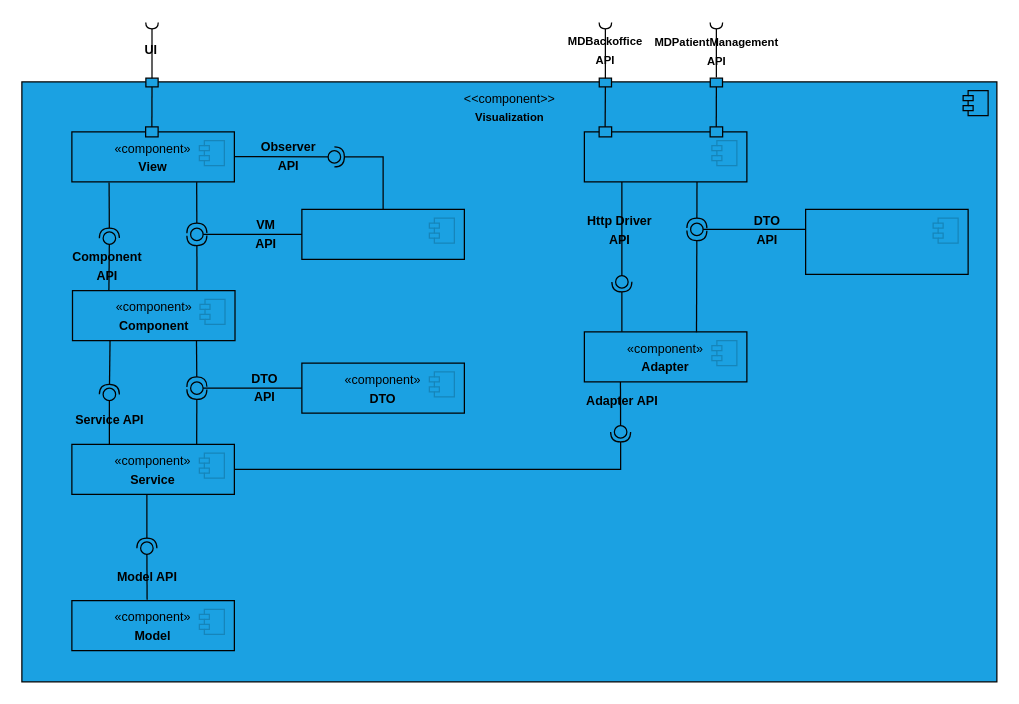
Image size: 1019x704. Some labels were removed from this diagram. Each missing label, with the centre of its shape:
"«component» DTO External-Internal" goes at (886,241).
"«component» HTTP Driver" goes at (665,156).
"«component» View Model" goes at (382,233).
